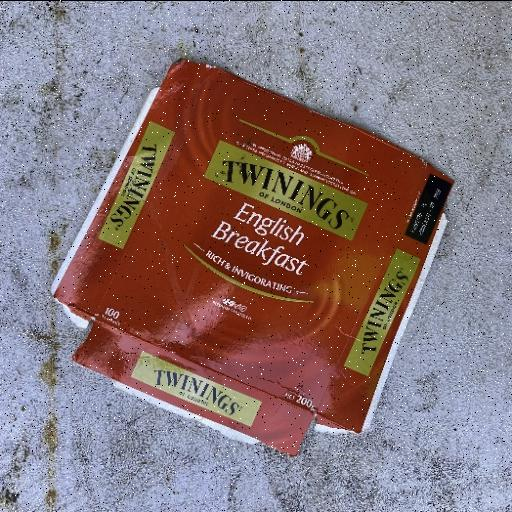Cardboard: (50, 56, 456, 454)
